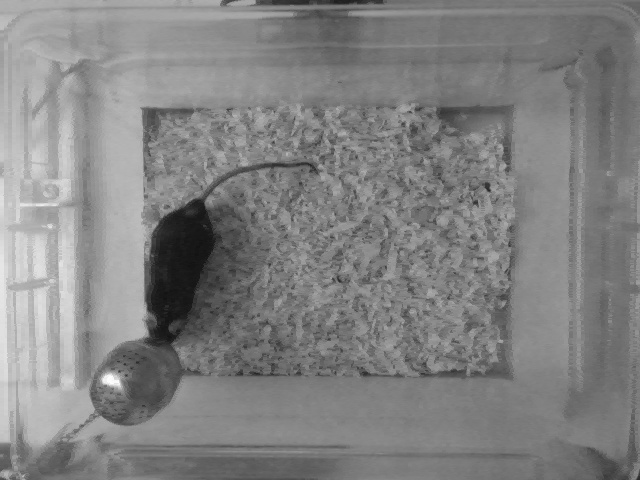mice: (142, 158, 323, 340)
